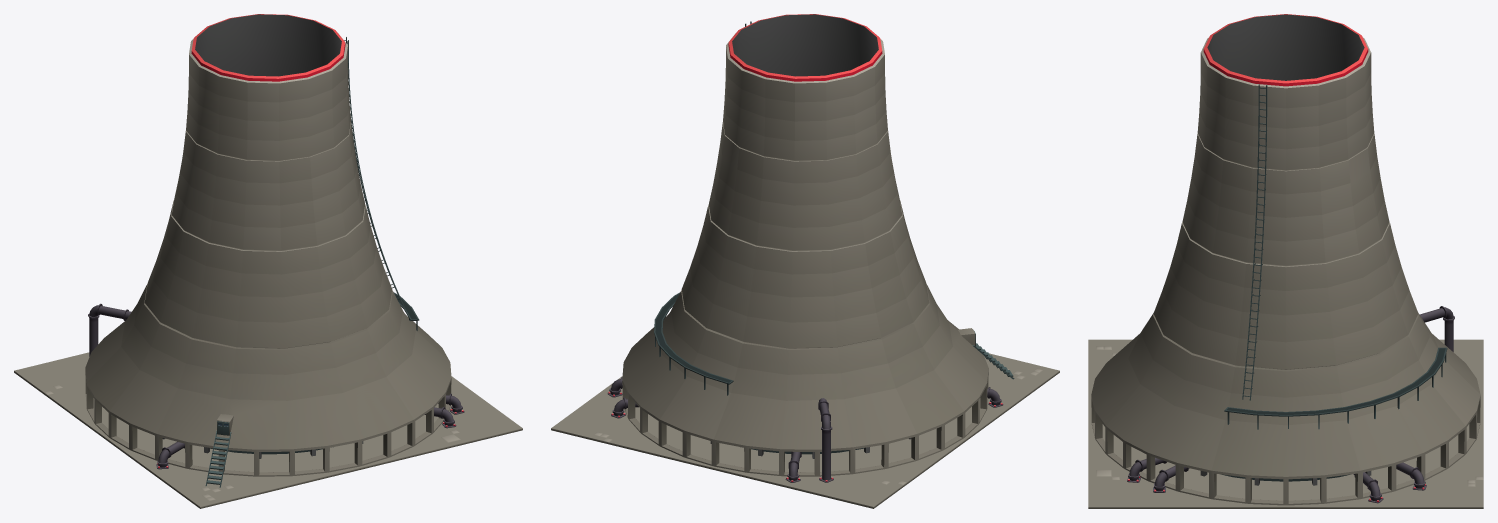
File: Cooling_Tower_1A.fbx
3 renders of one model, left to right at view 1: azimuth 30°, elevation 25°; view 2: azimuth 150°, elevation 25°; view 3: azimuth 270°, elevation 25°, orthographic. The views are drawn at different scales.
Parts seen in each view (by area): view 1: Cooling_Tower_1A; view 2: Cooling_Tower_1A; view 3: Cooling_Tower_1A.
Part boxes in pixels (<box>): Cooling_Tower_1A: <box>14,14,522,508</box>; Cooling_Tower_1A: <box>551,14,1059,508</box>; Cooling_Tower_1A: <box>1088,14,1483,508</box>.
Bounding box in the file's own units: 5000 × 5273 × 5000.
